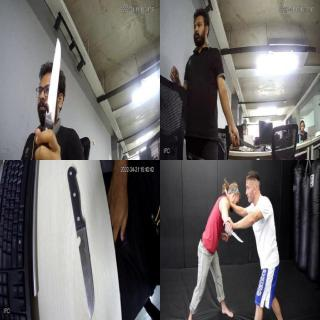knife: (67, 167, 101, 317), (44, 38, 62, 134), (222, 222, 245, 245), (239, 137, 257, 149)
